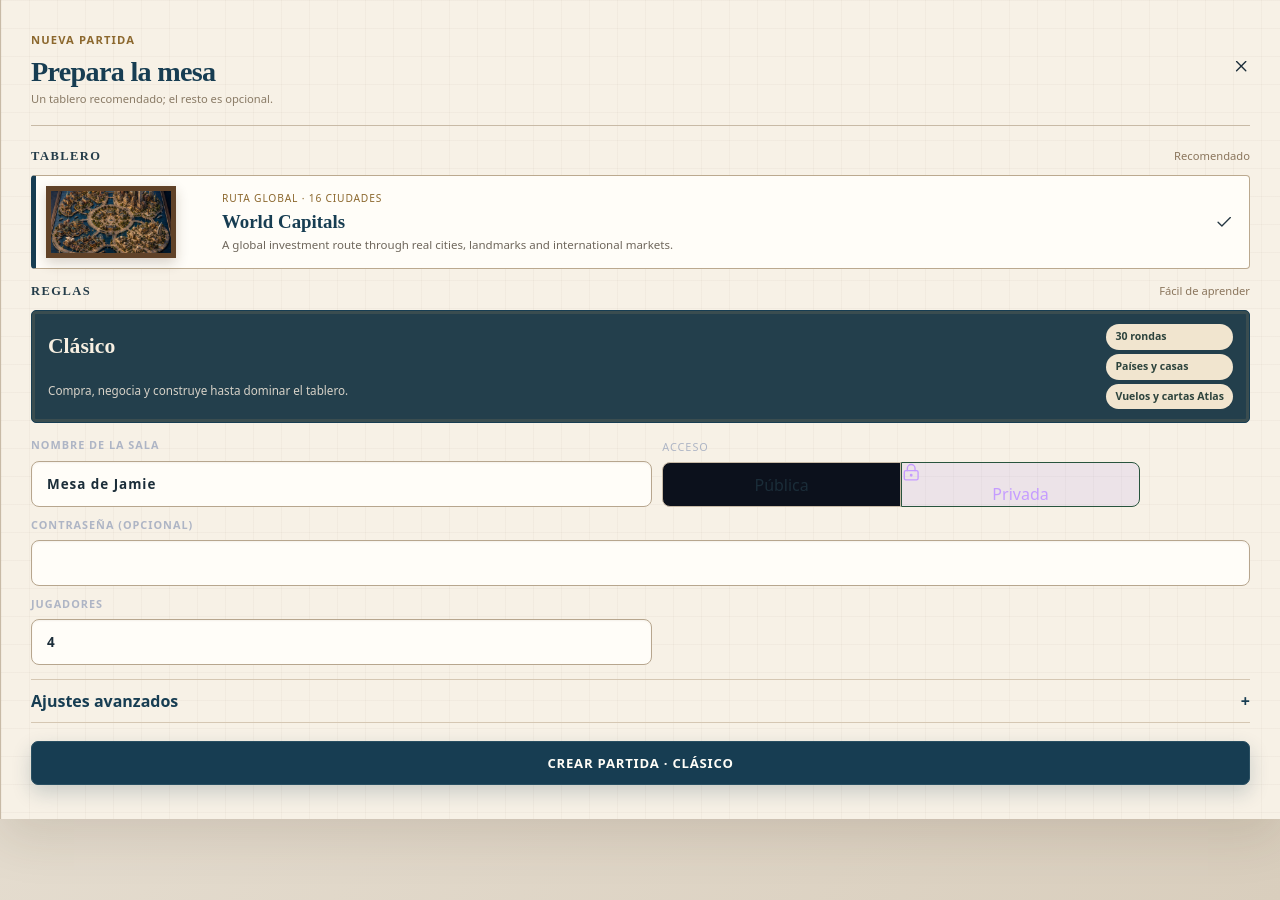
Test: CreateRoomDrawer › shows a rejected lobby request and restores the submit button
The width and height of the screenshot is (1280, 900).
Click the button "Crear partida · Clásico": (640, 763) [31,741,1250,785]
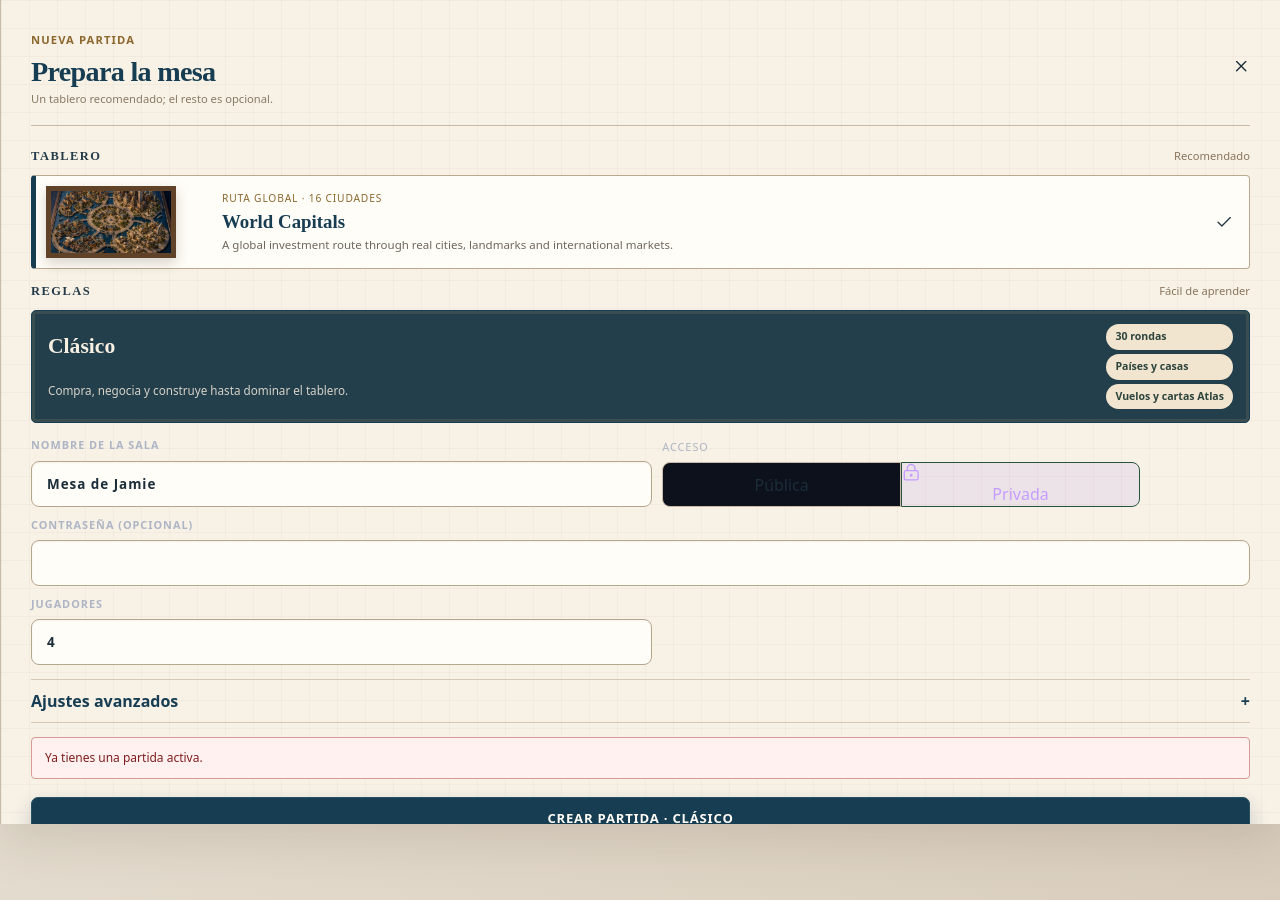
Expected: the button "Crear partida · Clásico" is enabled, [31,797,1250,824]
Expected: the message reads "Ya tienes una partida activa.", [45,749,203,766]
